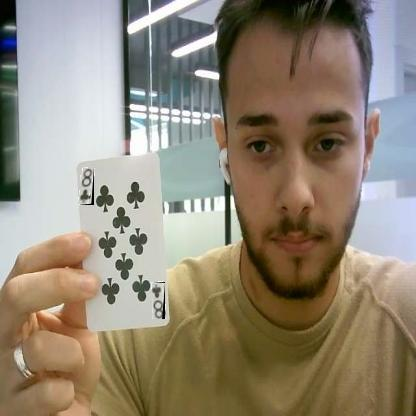8C: (80, 168, 94, 205), (152, 282, 165, 319)
